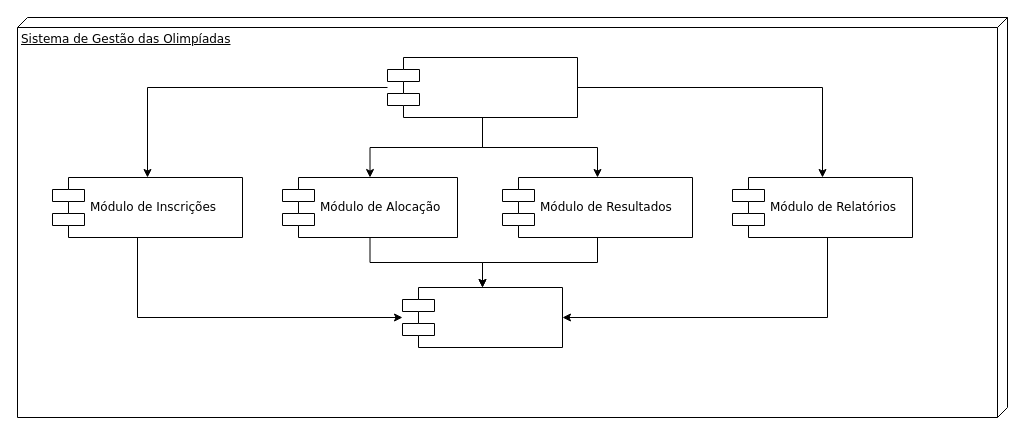
Some shapes in this 1025 by 435 pixel diagram are drawn without their labels. Here are the shapes that lost their labels. From the top down, the centre of each, then its label:
(x=482, y=87): Interface de Usuário
(x=482, y=317): Banco de Dados
